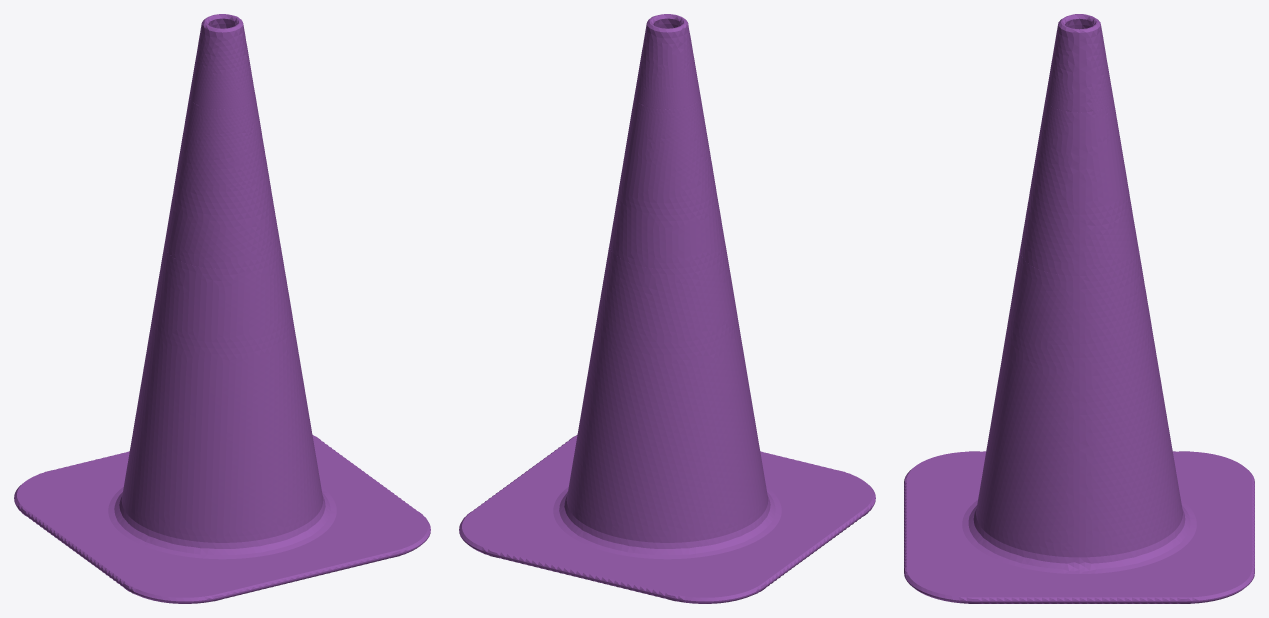
3 renders of one model, left to right at view 1: azimuth 30°, elevation 25°; view 2: azimuth 150°, elevation 25°; view 3: azimuth 270°, elevation 25°, orthographic. The views are drawn at different scales.
Visible parts, largest first — view 1: Face 1; view 2: Face 1; view 3: Face 1.
Part boxes in pixels (x1=…): Face 1: x1=14, y1=14, x2=430, y2=603; Face 1: x1=459, y1=14, x2=875, y2=603; Face 1: x1=904, y1=14, x2=1254, y2=603.
Bounding box in the file's own units: 500 × 800 × 500.
